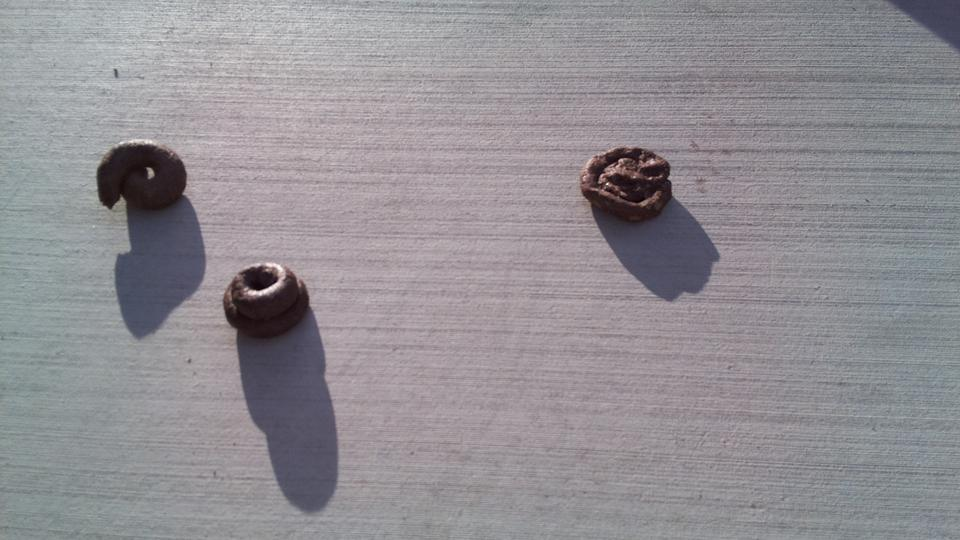poop: (574, 141, 678, 227), (93, 134, 190, 223), (218, 259, 313, 341)
